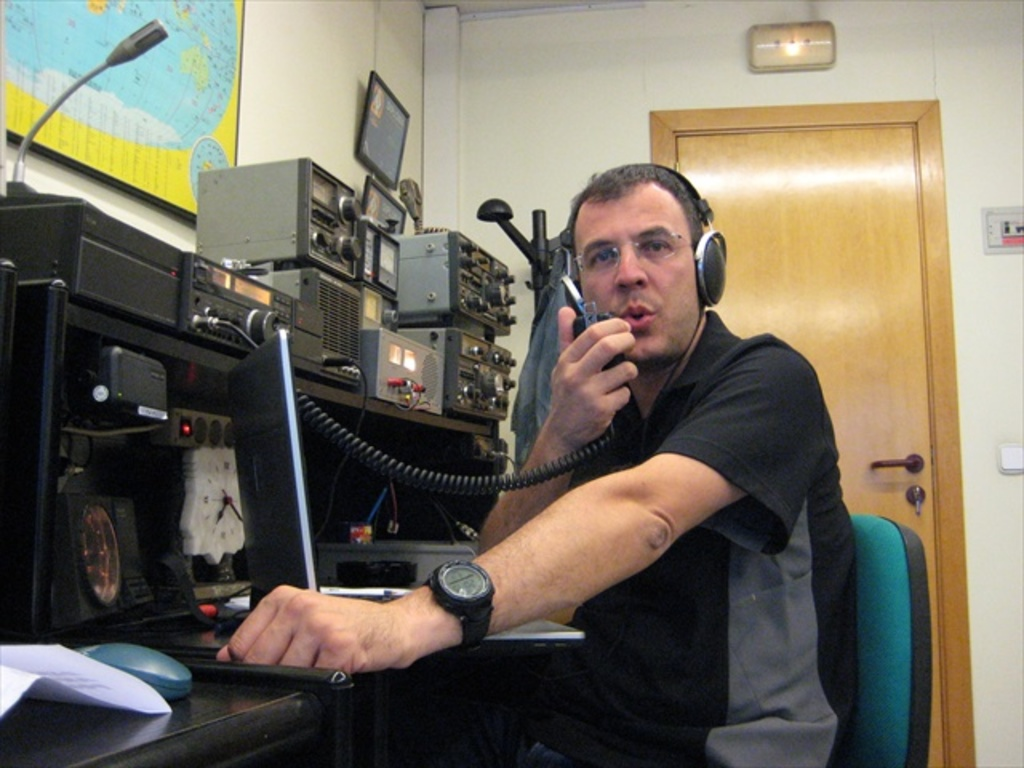Human_hand: (215, 584, 399, 673), (558, 307, 640, 435)
